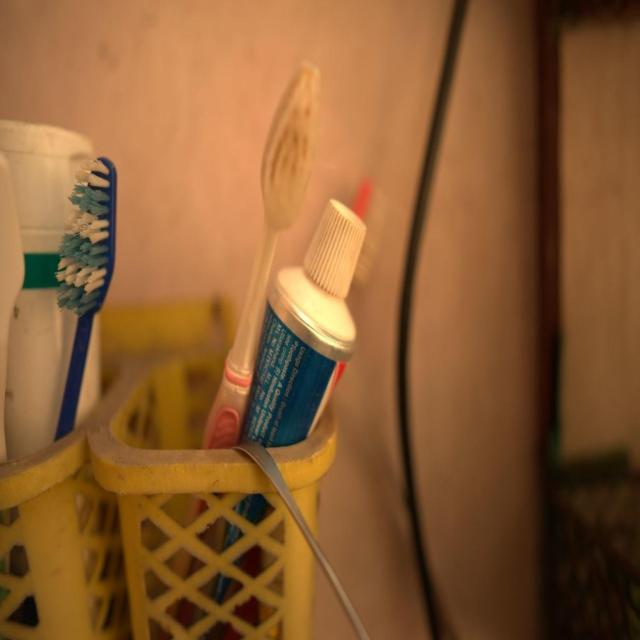Toothpaste: (240, 178, 397, 490)
